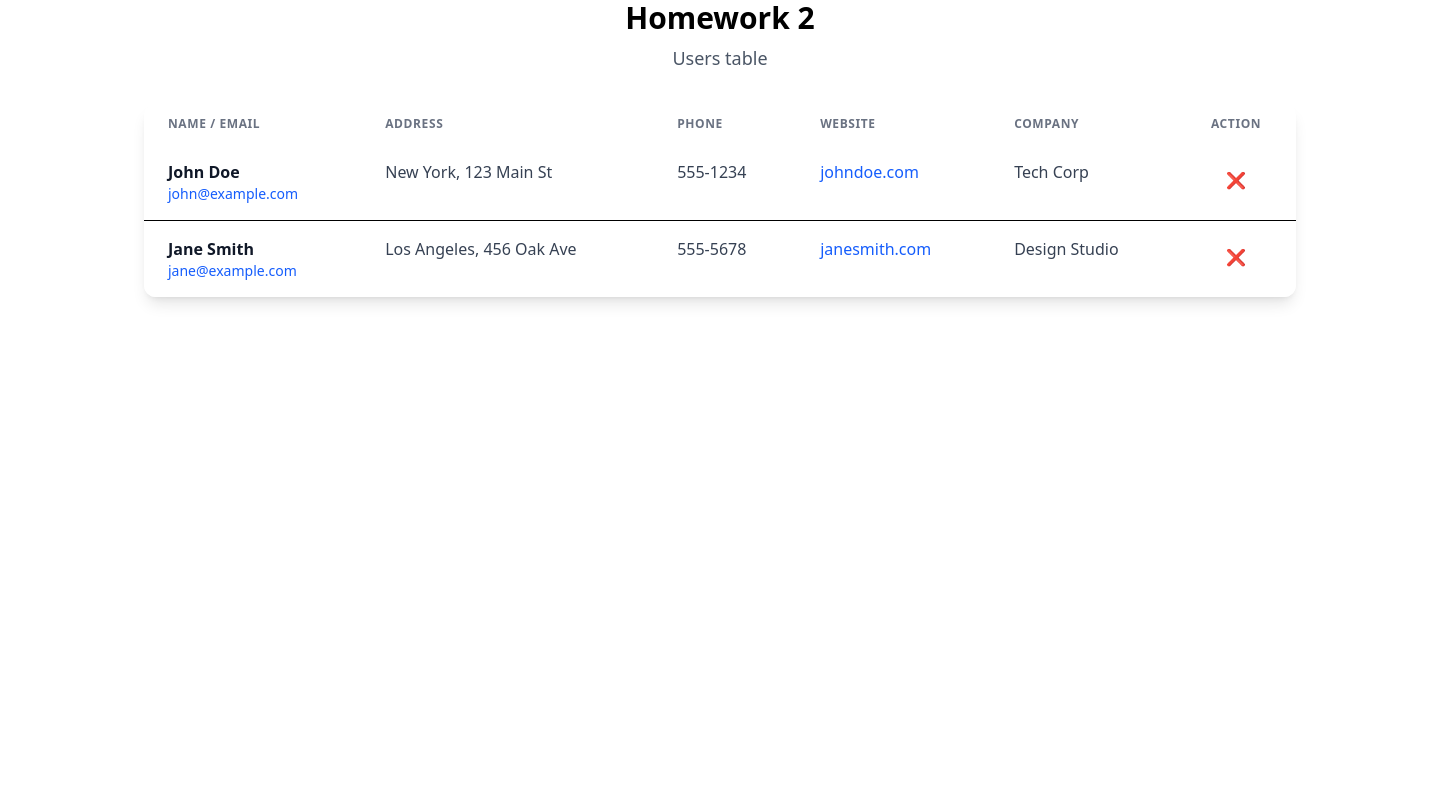
Test: App › State Management › should handle multiple user selections correctly
Check: the text "John Doe" is shown, box [168, 161, 240, 183]
Check: the text "Jane Smith" is shown, box [168, 238, 254, 260]
# Open modal for John Doe
Click the row named "View details for John Doe".
click(720, 182)  # box [144, 144, 1296, 220]
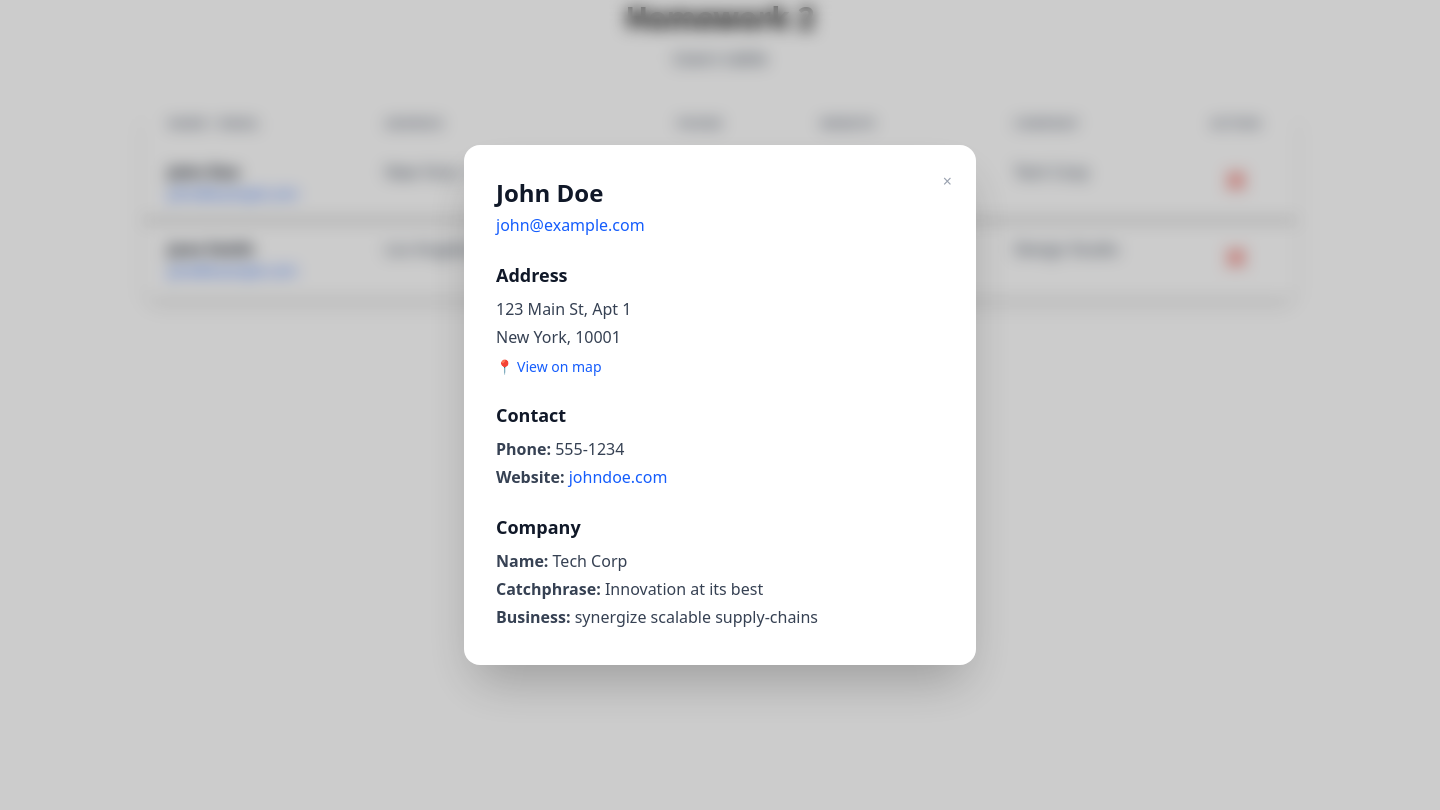
Check: the dialog is shown, box [464, 145, 976, 665]
Check: the text "John Doe" is shown, box [496, 176, 603, 209]
# Close modal
Click the button named "Close".
click(947, 181)  # box [935, 161, 960, 201]
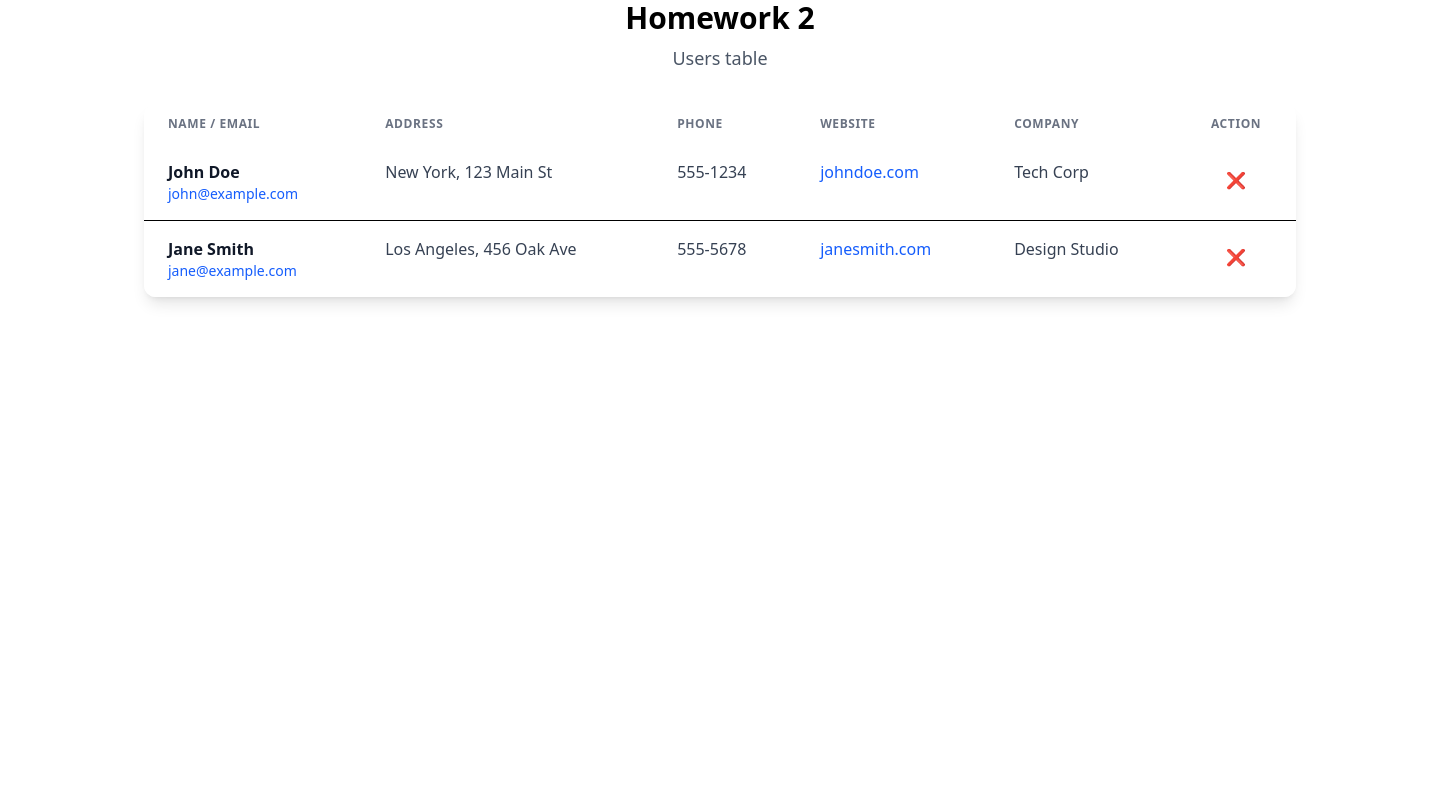
# Open modal for Jane Smith
Click the row named "View details for Jane Smith".
click(720, 259)  # box [144, 220, 1296, 297]
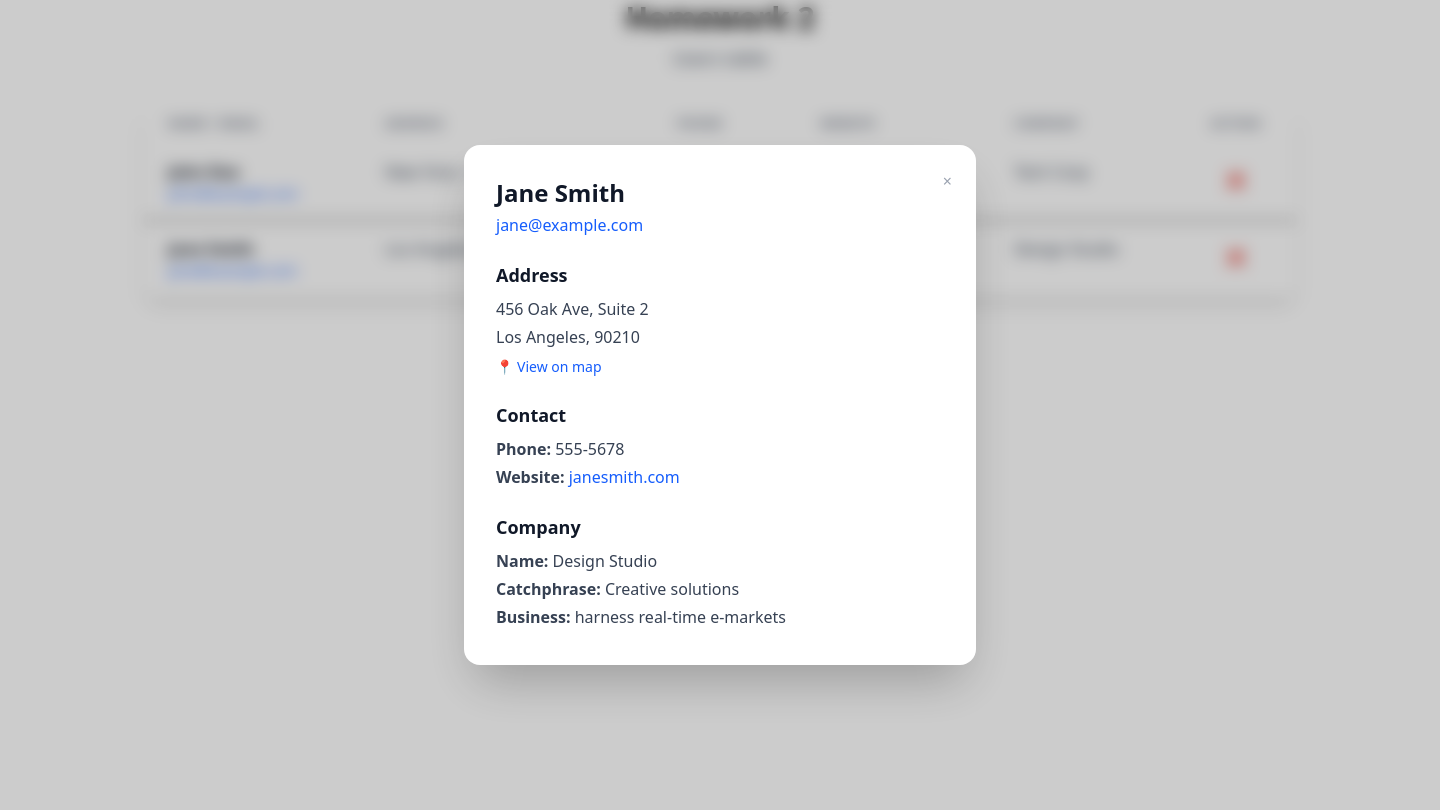
Check: the dialog is shown, box [464, 145, 976, 665]
Check: the text "Jane Smith" is shown, box [496, 176, 625, 209]
